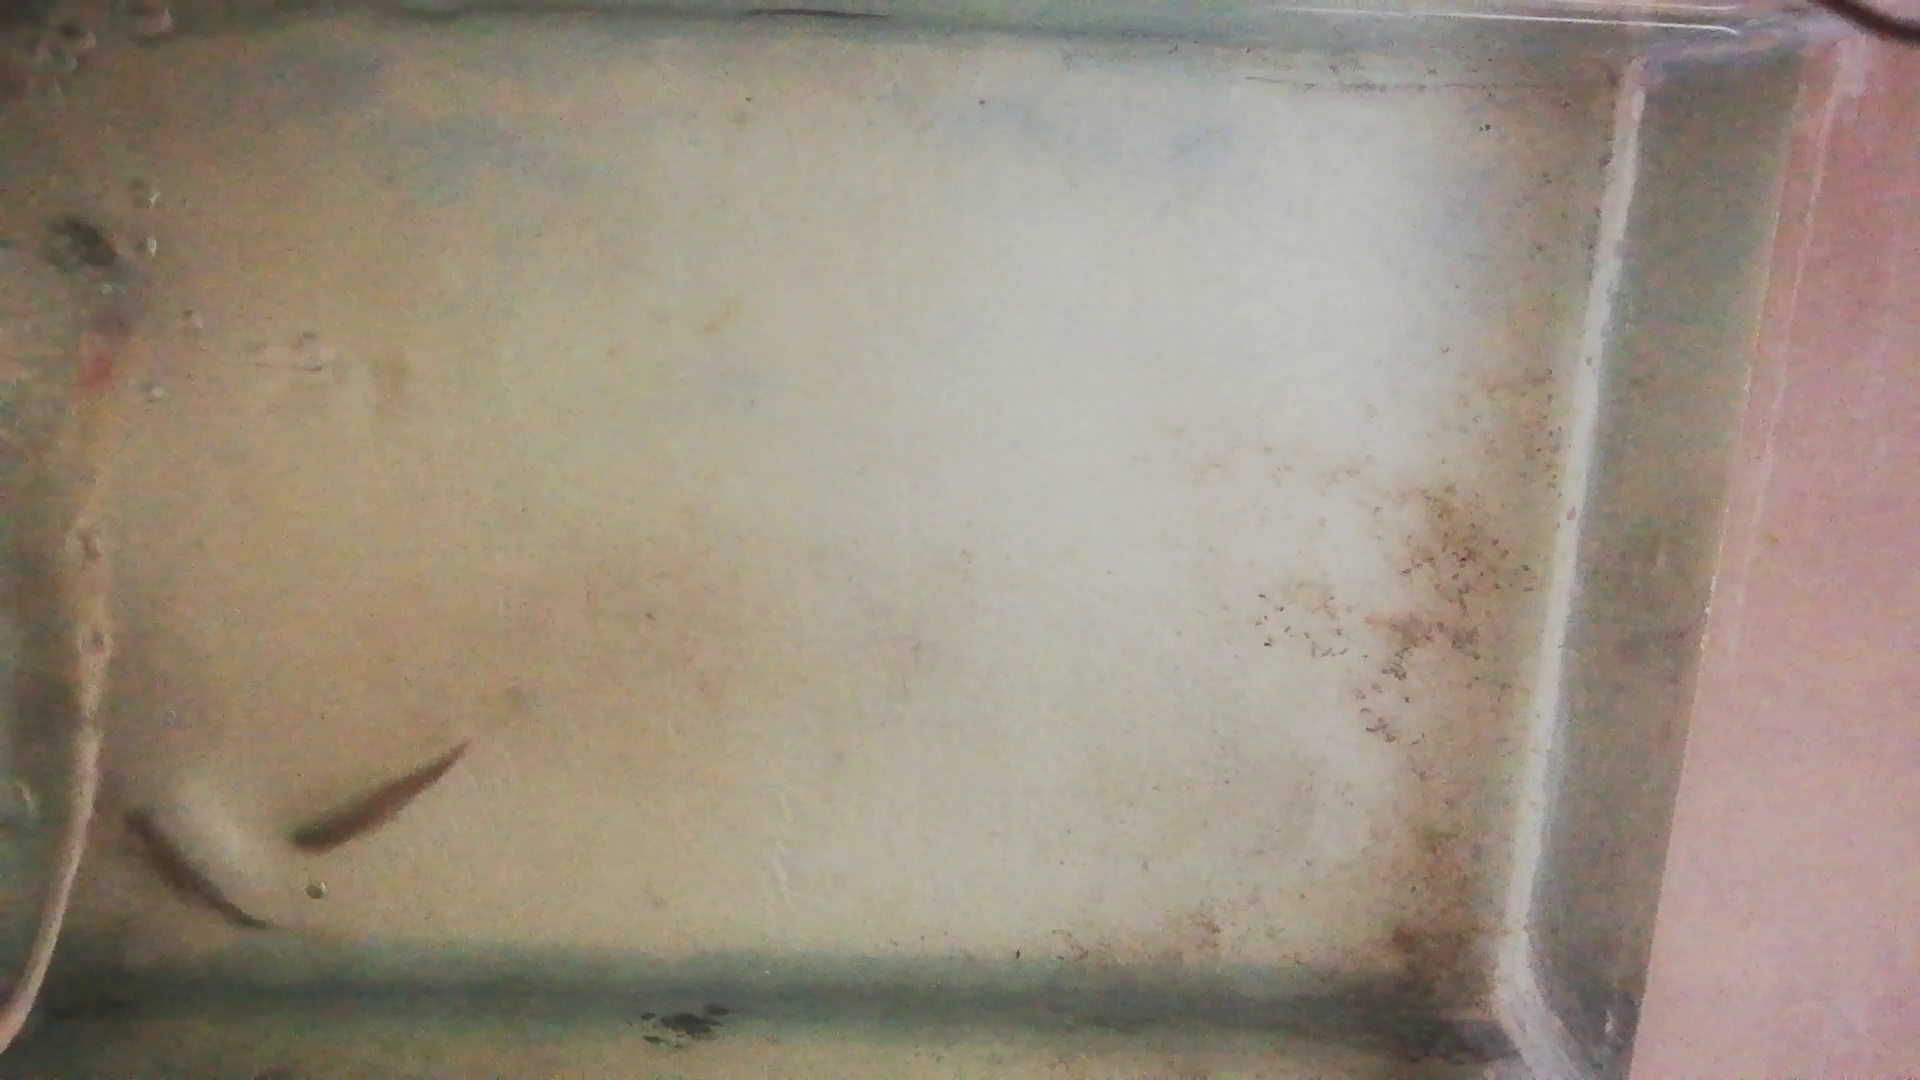fish: (287, 741, 469, 853), (115, 804, 262, 928)
